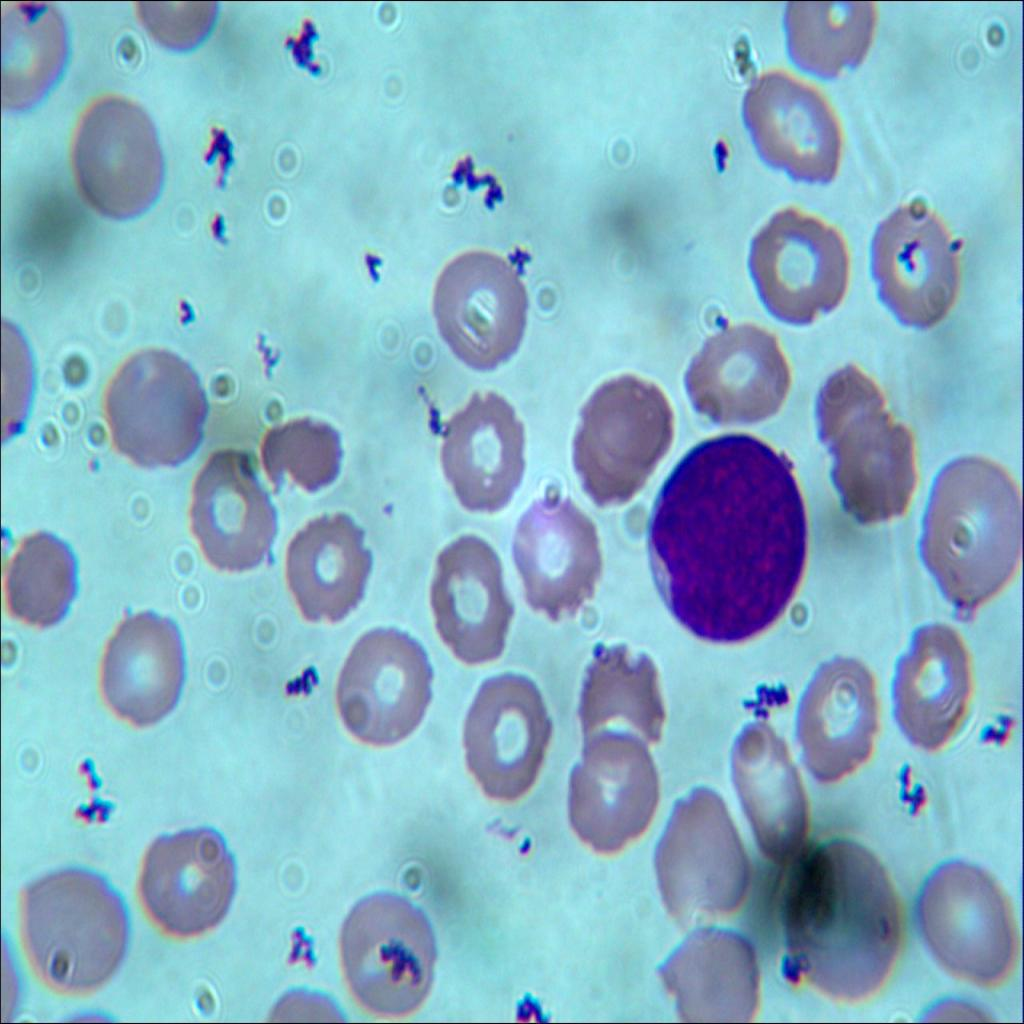Eritrosit: (790, 832, 909, 997), (731, 50, 863, 194), (742, 191, 851, 334), (926, 445, 1023, 605), (914, 847, 1023, 983), (13, 870, 133, 992), (63, 94, 169, 231), (106, 341, 210, 477), (655, 797, 759, 931), (422, 524, 516, 669), (340, 885, 438, 1018), (326, 619, 432, 741), (568, 379, 674, 500), (686, 310, 792, 428), (432, 375, 526, 508), (182, 450, 278, 580), (784, 650, 879, 780), (561, 727, 663, 847), (464, 665, 550, 804), (874, 198, 964, 328), (578, 639, 664, 775), (139, 814, 236, 934), (278, 506, 374, 625), (436, 244, 530, 365), (884, 618, 971, 748), (662, 915, 766, 1023), (729, 721, 808, 862), (826, 405, 918, 524), (513, 497, 603, 616), (254, 390, 348, 500), (104, 607, 181, 728), (775, 0, 873, 91), (0, 0, 73, 117), (3, 530, 79, 634), (803, 358, 882, 452)
Limfoblast: (646, 428, 810, 652)
Platelet: (368, 492, 403, 548), (511, 832, 548, 859), (944, 227, 966, 268)
